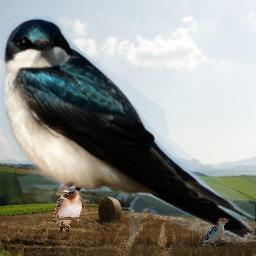Swallow: (1, 16, 255, 242), (53, 187, 85, 232)
Woodpecker: (197, 218, 232, 246)
